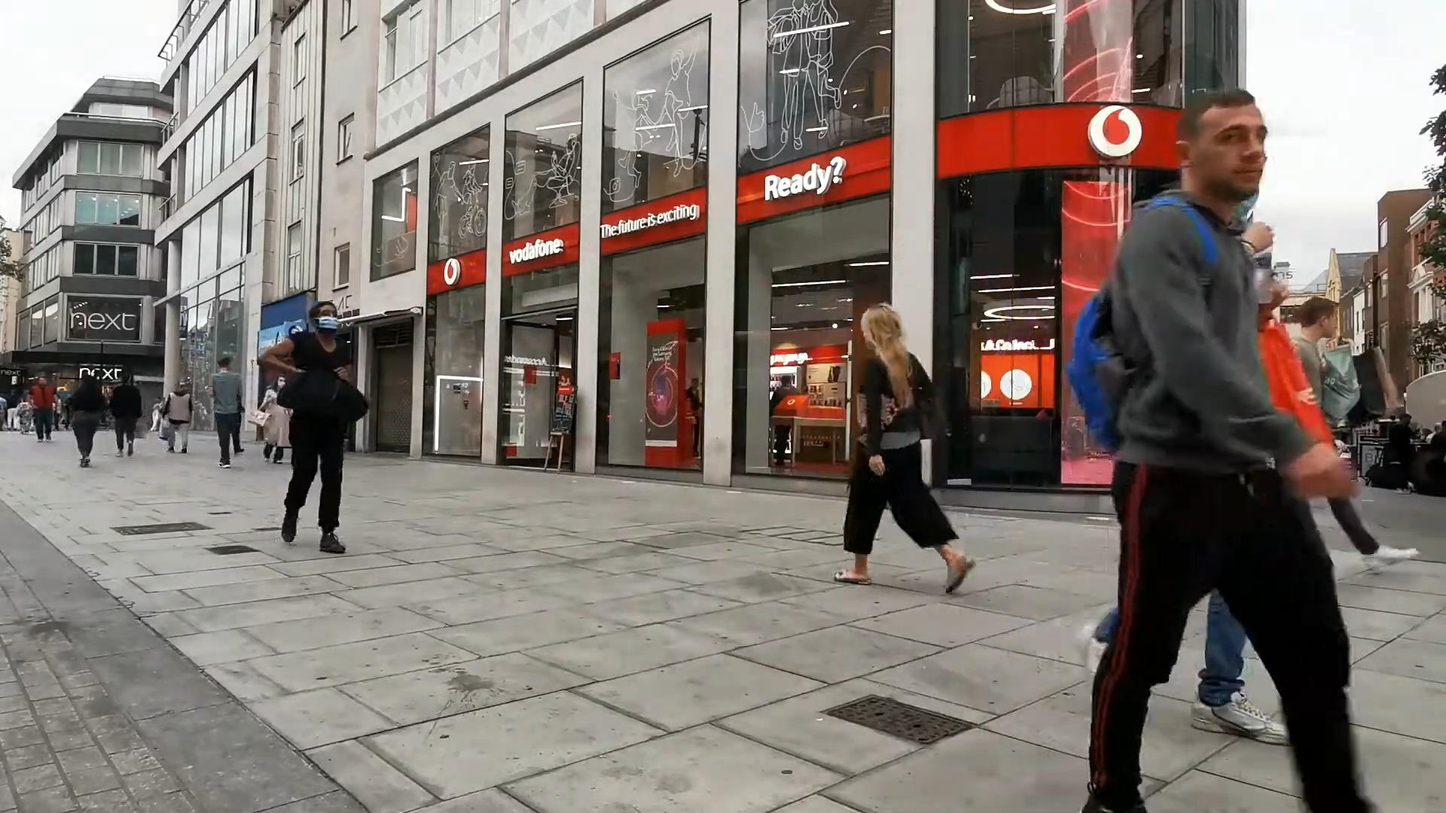no-helmet: (1175, 87, 1269, 203), (859, 302, 906, 356), (1299, 295, 1340, 339), (308, 301, 339, 335), (272, 373, 287, 393)
